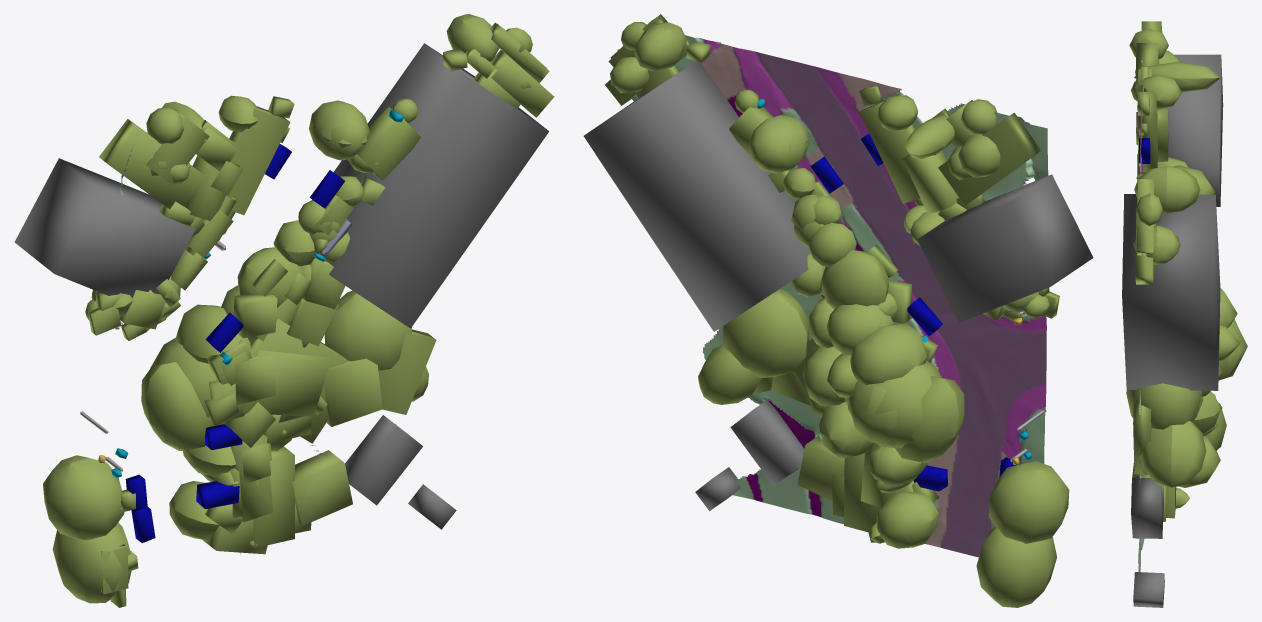
3 renders of one model, left to right at view 1: azimuth 30°, elevation 25°; view 2: azimuth 150°, elevation 25°; view 3: azimuth 270°, elevation 25°, orthographic. The views are drawn at different scales.
Bounding box in the file's own units: 71.95 × 68.94 × 16.73.
